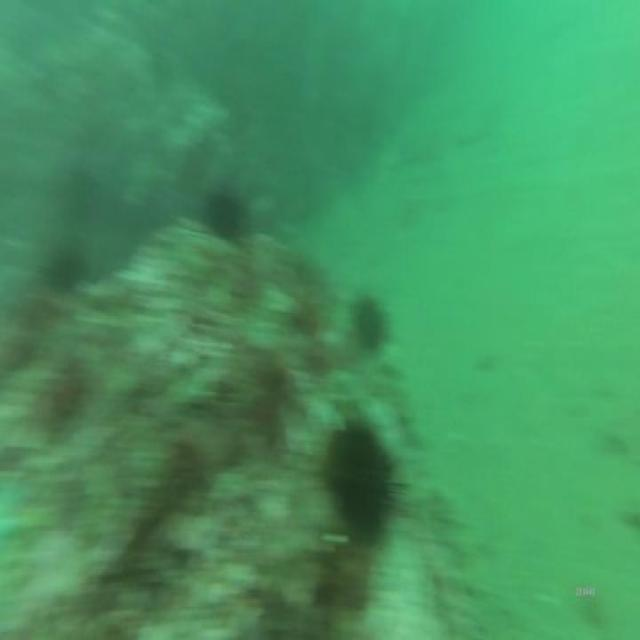echinus: (324, 398, 412, 550), (204, 182, 248, 250), (350, 284, 388, 359), (44, 238, 86, 296)
